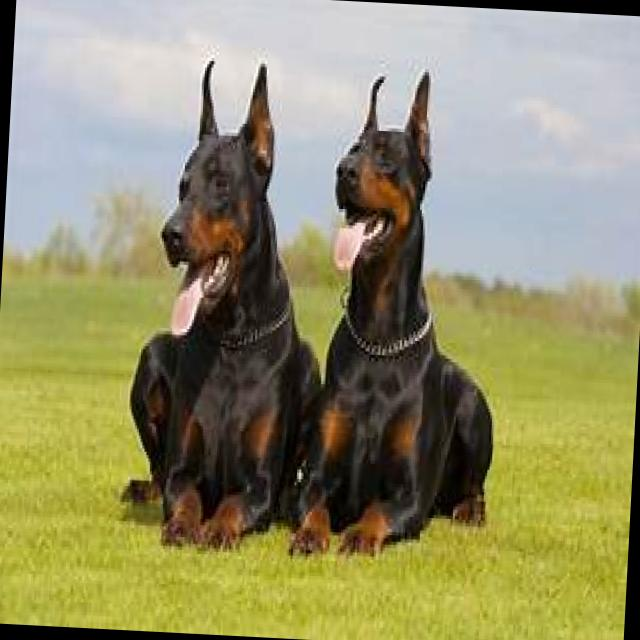animal: (289, 69, 512, 558), (121, 59, 338, 552)
